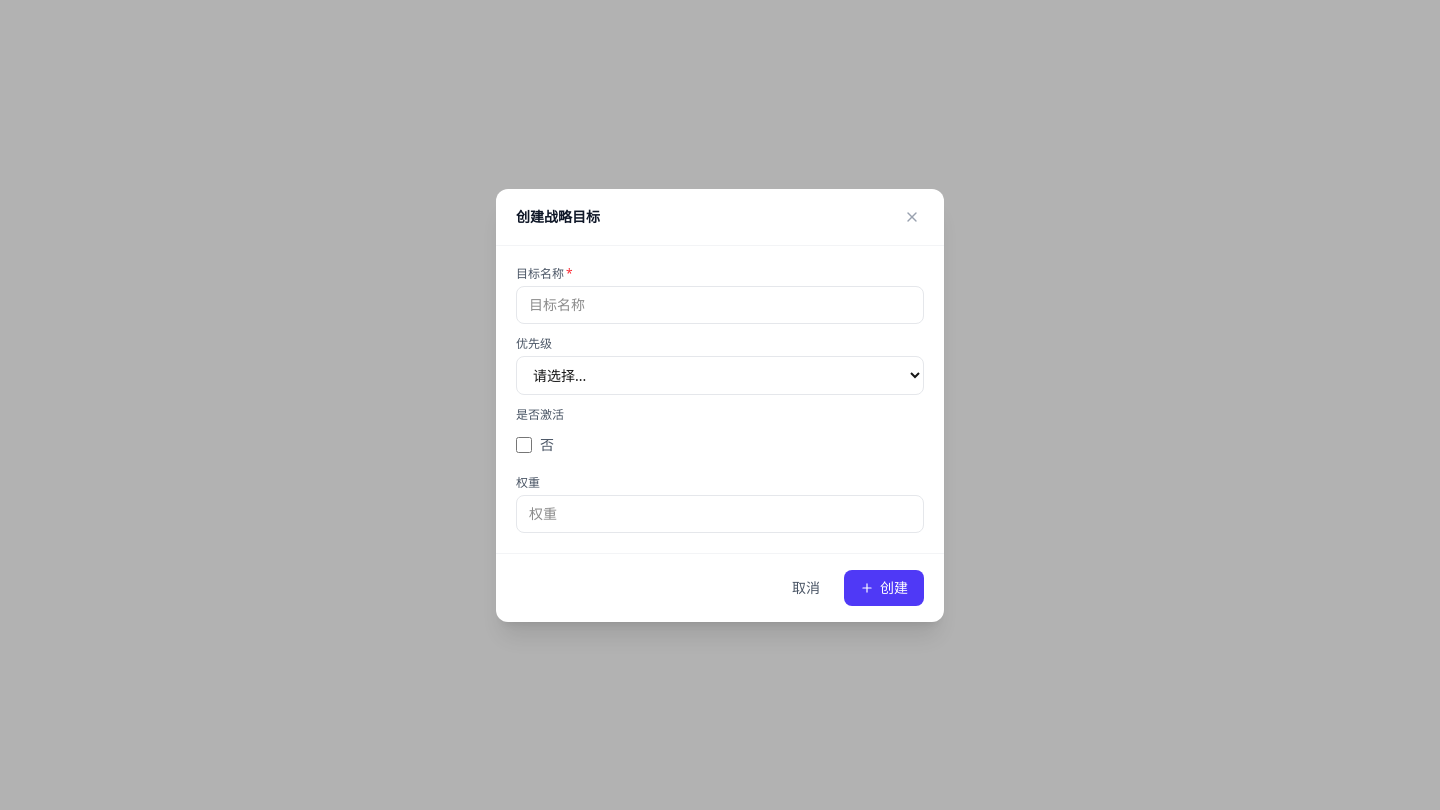
Test case: InlineCreateModal › shows error when createObject fails
Type "test" into the field with placeholder "目标名称" at (720, 304), box [516, 286, 924, 324]
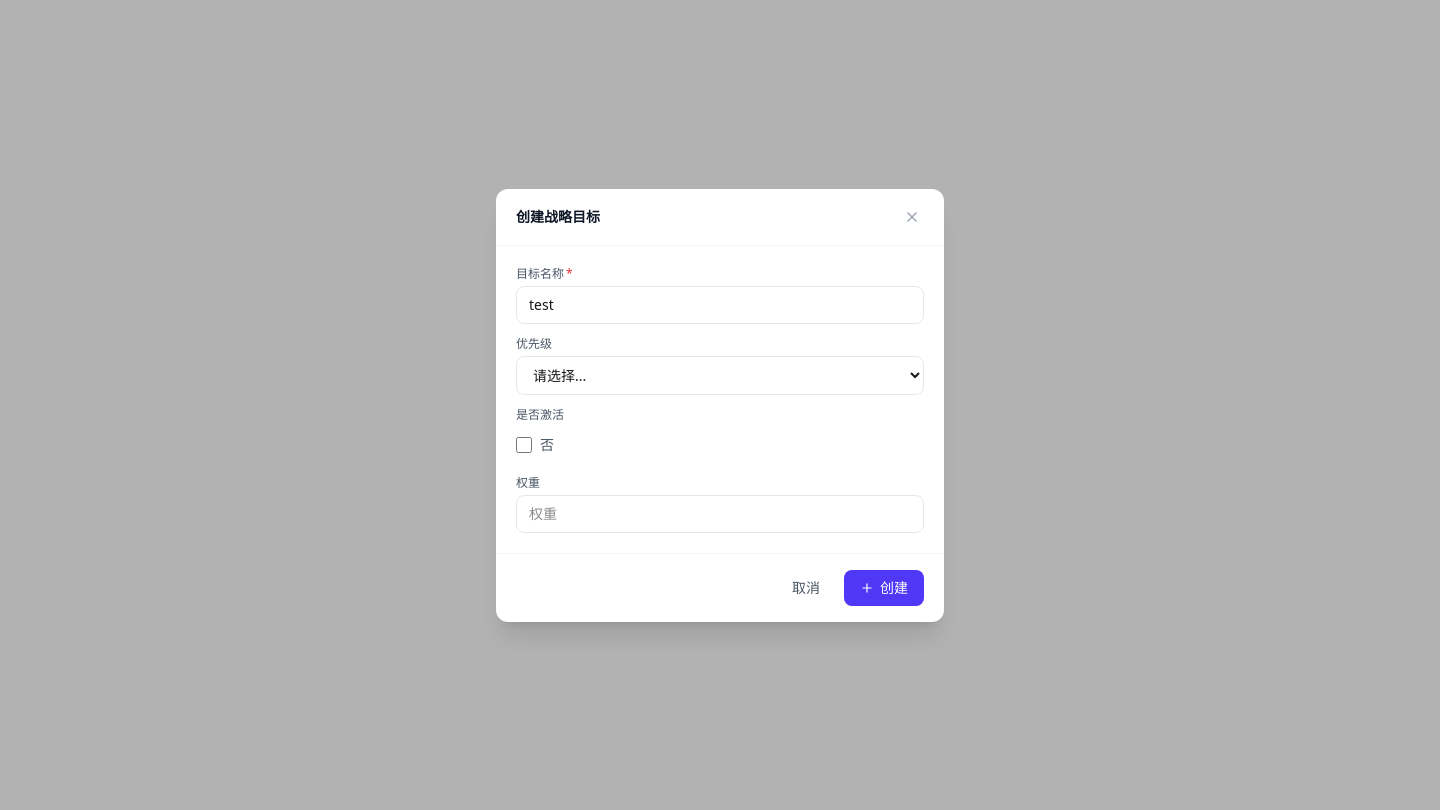
Click the button "创建" at (884, 588), box [844, 570, 924, 606]
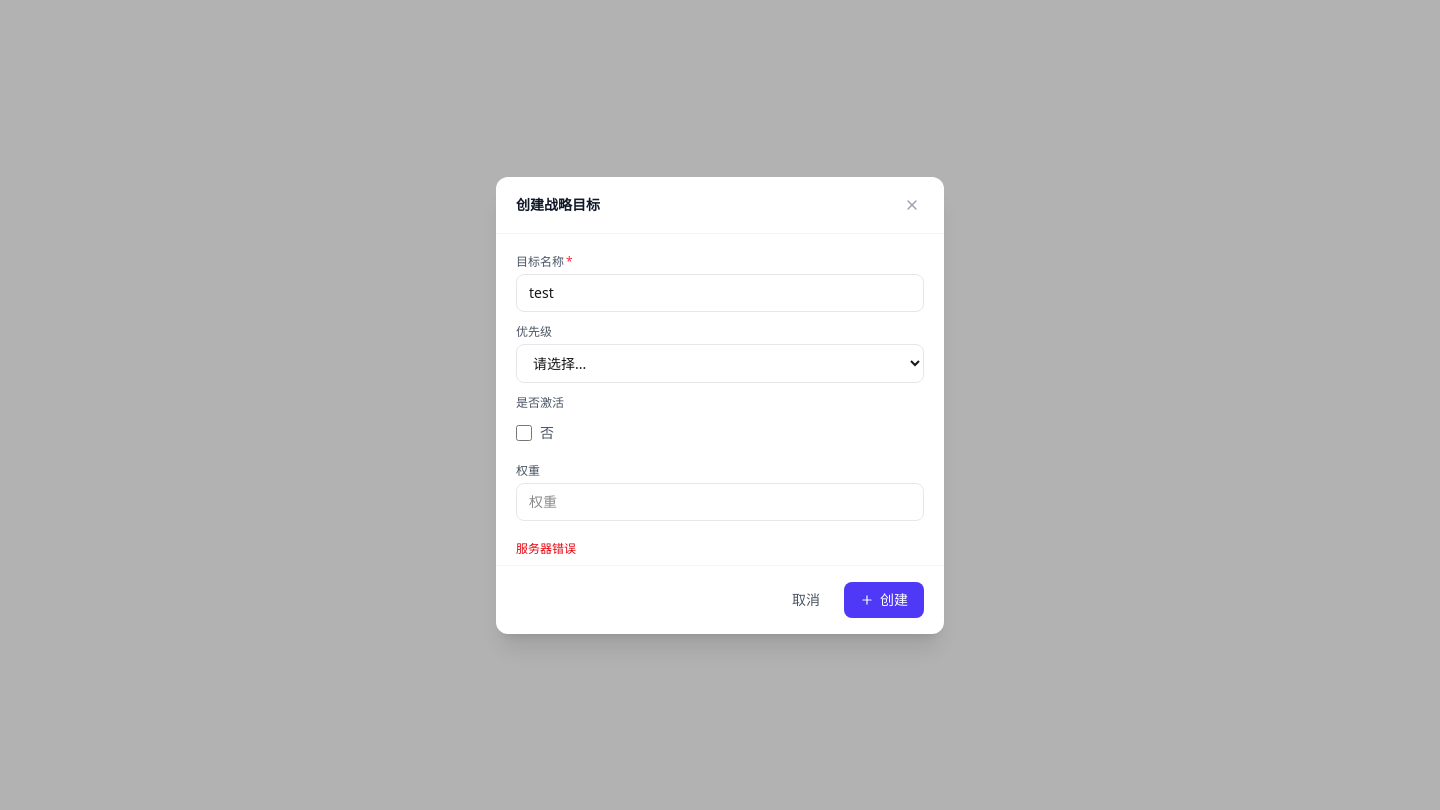
Expected: the text "服务器错误" is shown, [516, 540, 576, 556]
